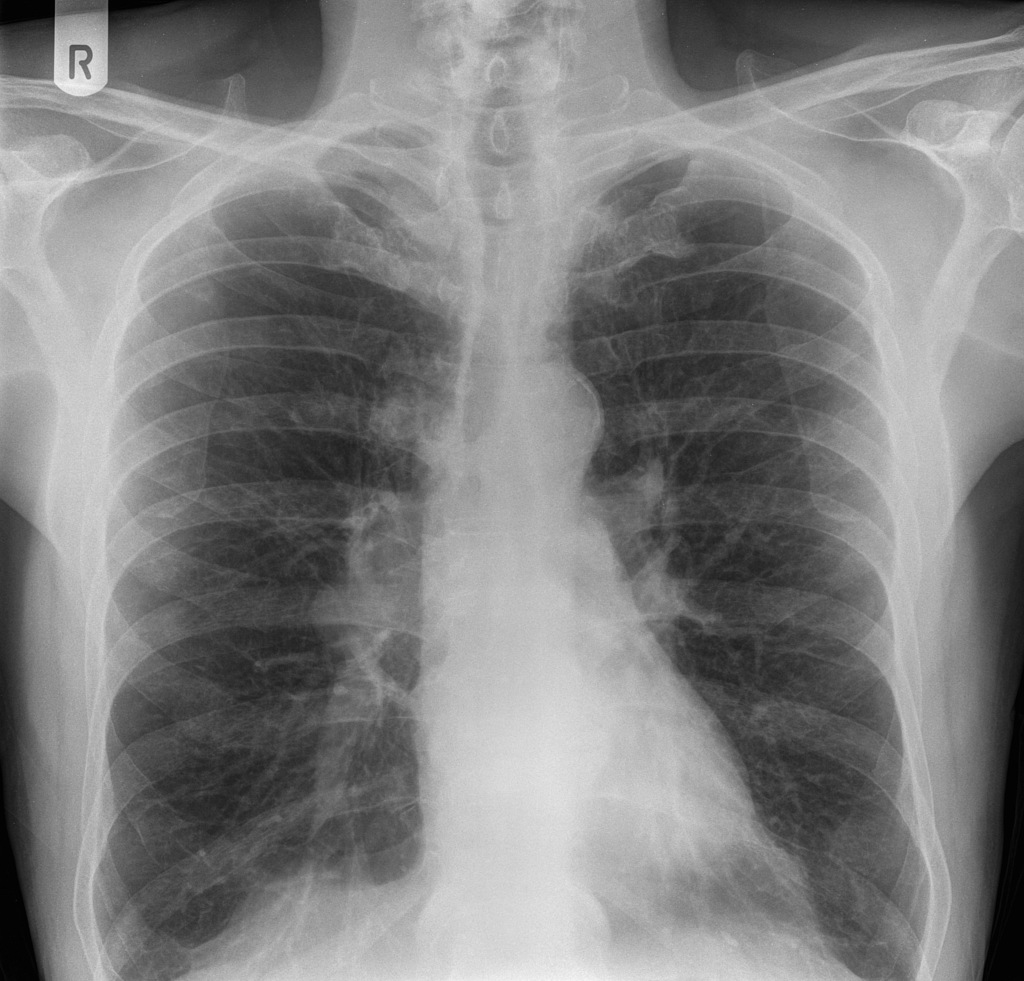cancer: (104, 297, 397, 876), (579, 247, 860, 713)
